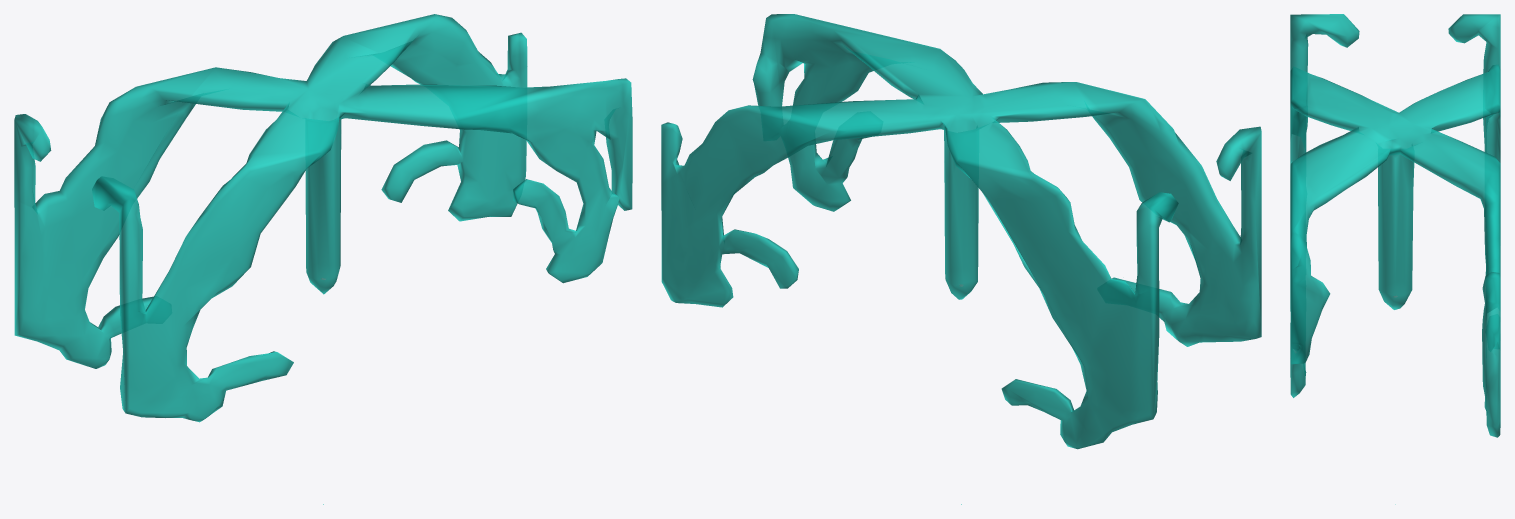
3 renders of one model, left to right at view 1: azimuth 30°, elevation 25°; view 2: azimuth 150°, elevation 25°; view 3: azimuth 270°, elevation 25°, orthographic. The views are drawn at different scales.
Visible parts, largest first — view 1: Liquid_Domain; view 2: Liquid_Domain; view 3: Liquid_Domain.
Part boxes in pixels (x1,y1,x2,y2): Liquid_Domain: (14, 14, 632, 422); Liquid_Domain: (661, 14, 1261, 449); Liquid_Domain: (1290, 14, 1500, 437).
Bounding box in the file's own units: 1966 × 1517 × 766.
